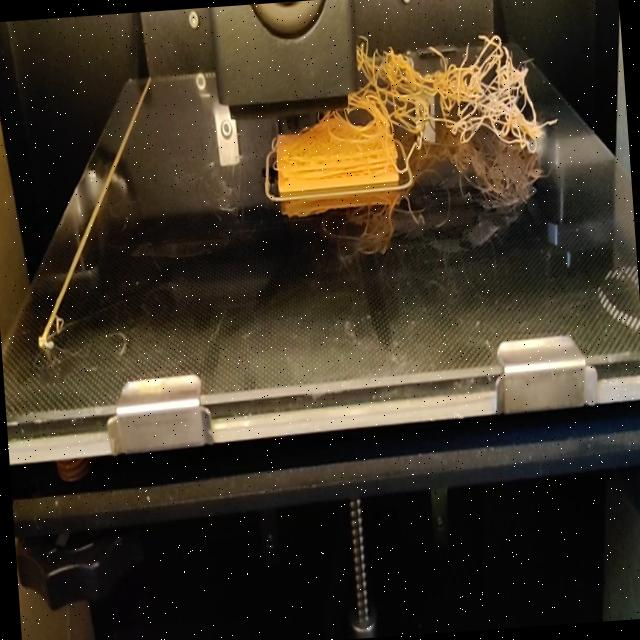spaghetti: (356, 22, 559, 166), (324, 92, 366, 167)
